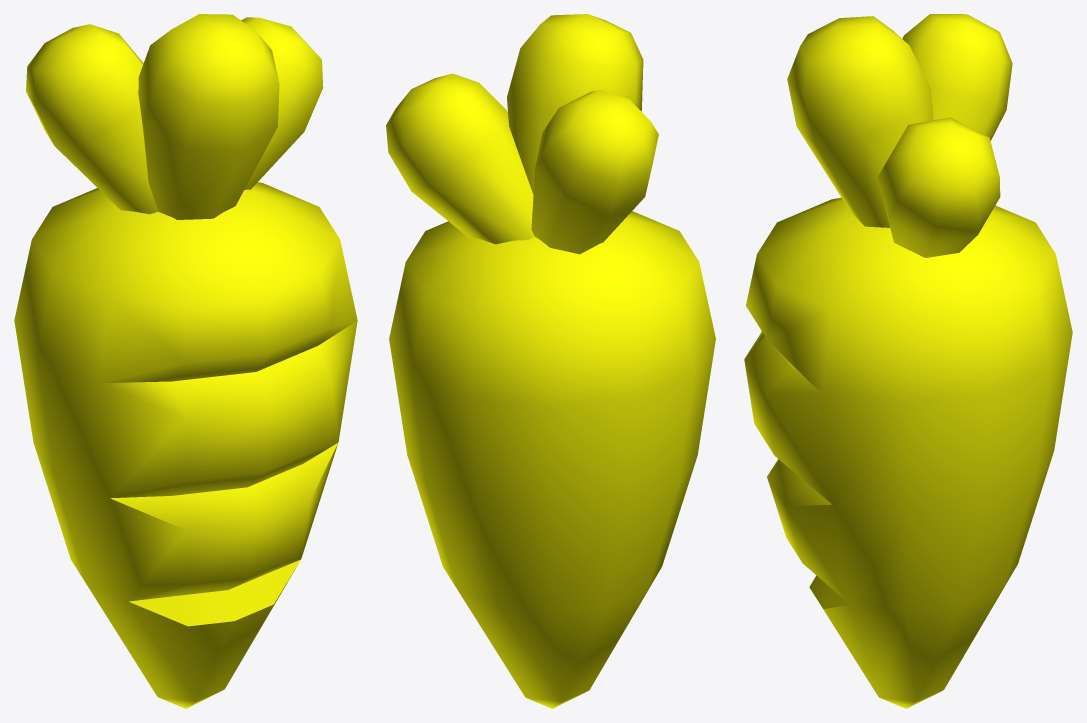
File: kaykit-food-ingredient-carrot.glb
The picture shows the model from 3 angles, left to right: view 1: azimuth 30°, elevation 25°; view 2: azimuth 150°, elevation 25°; view 3: azimuth 270°, elevation 25°; orthographic projection. The views are drawn at different scales.
Visible parts, largest first — view 1: food_ingredient_carrot; view 2: food_ingredient_carrot; view 3: food_ingredient_carrot.
Boxes of the visible parts, bbox=[...] form: food_ingredient_carrot: bbox=[14, 14, 357, 708]; food_ingredient_carrot: bbox=[386, 14, 715, 708]; food_ingredient_carrot: bbox=[744, 14, 1072, 708].
Size of the model in its own units: 0.56 by 1.27 by 0.5529.
